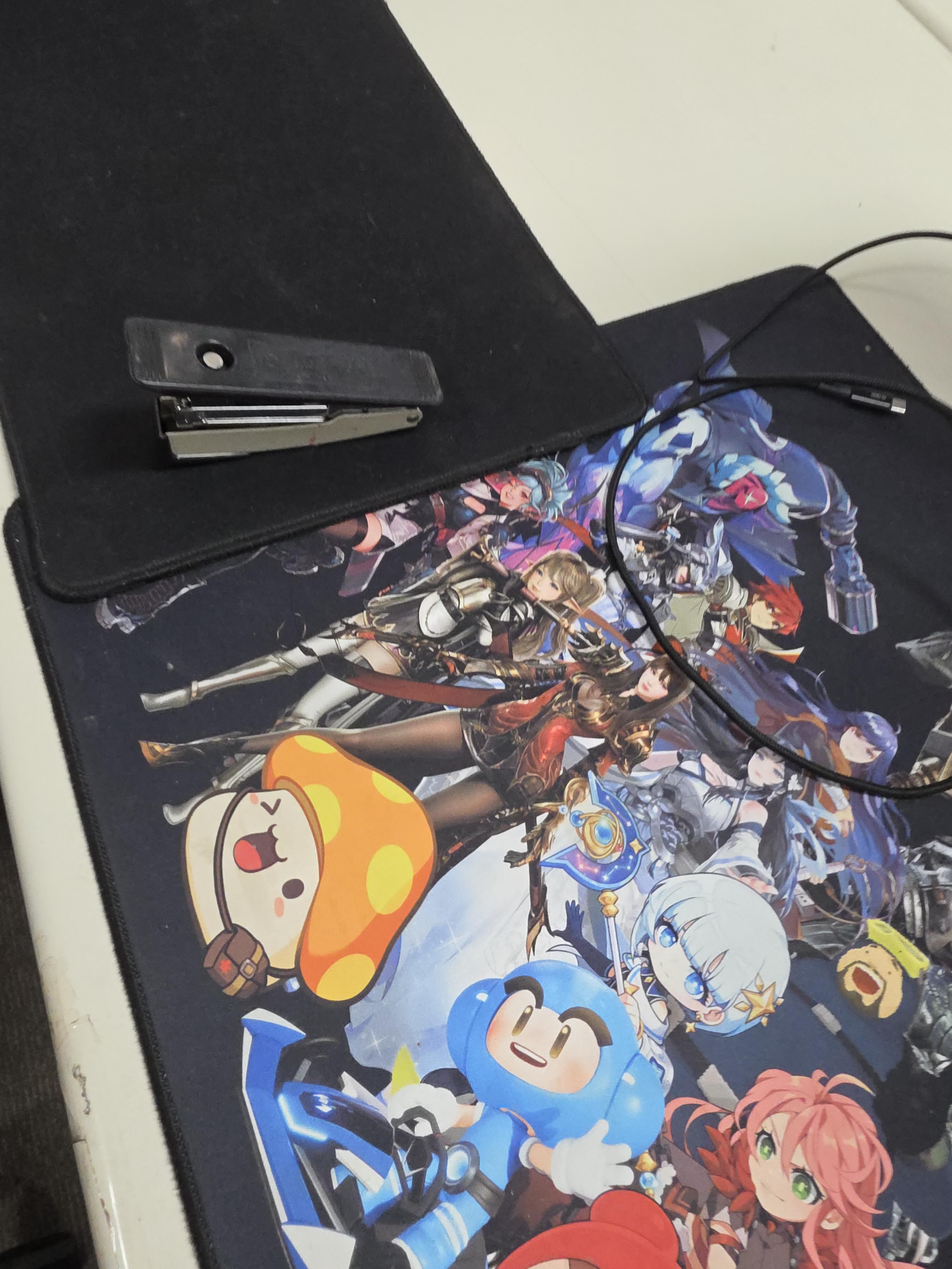stapler: (124, 317, 443, 461)
